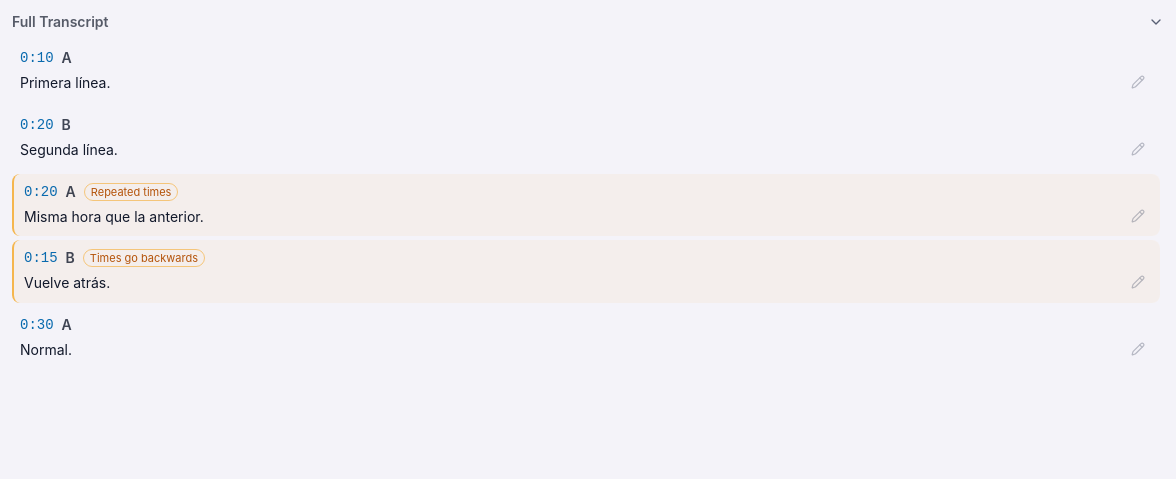
it: TranscriptViewer edits a line start time › refuses a time that is not a time, without saving
Click the button named "Edit transcript turn 2": coordinates (1138, 149) x1=1124 y1=135 x2=1152 y2=163
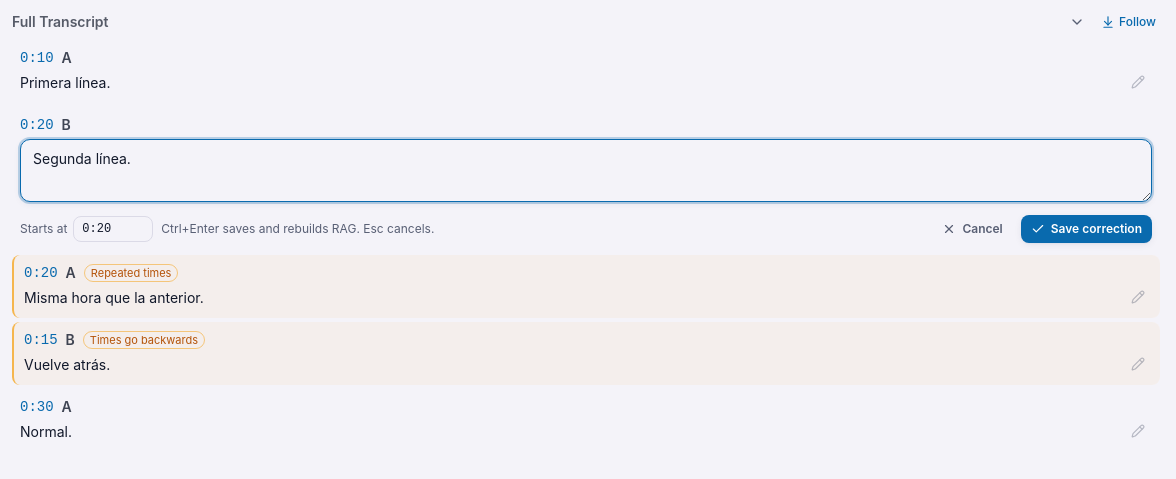
Replace the text in the field named "Start time of transcript turn 2" with "1:75": coordinates (113, 229) x1=73 y1=216 x2=153 y2=242
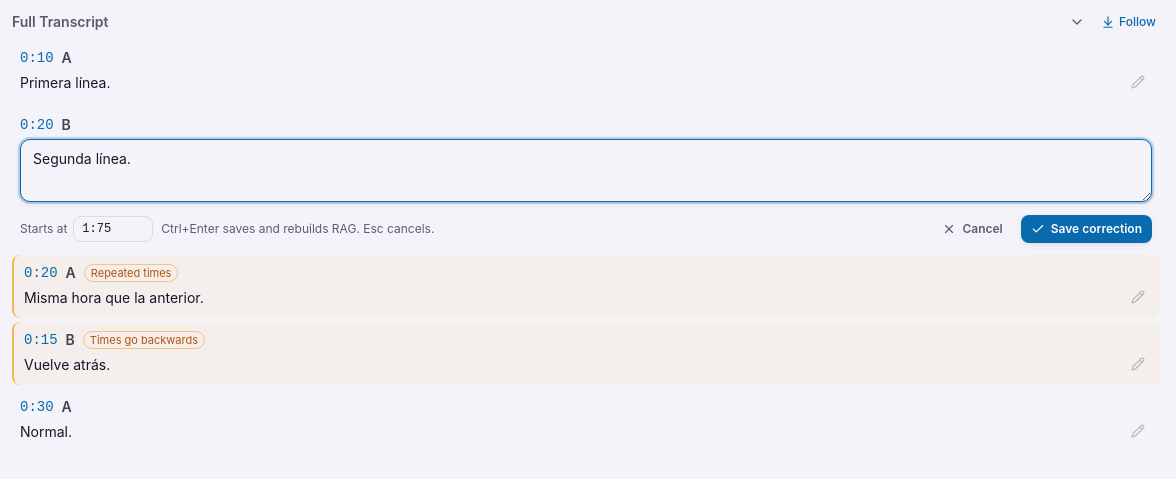
Click the button "Save correction": coordinates (1086, 229) x1=1021 y1=215 x2=1152 y2=243
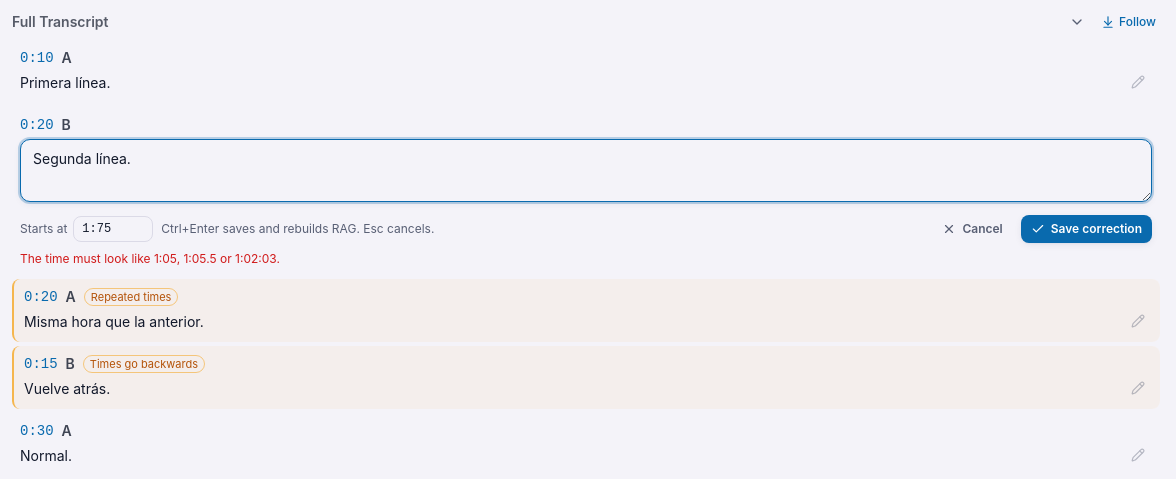
Now the message shows "1:05", box x1=20 y1=251 x2=280 y2=266
